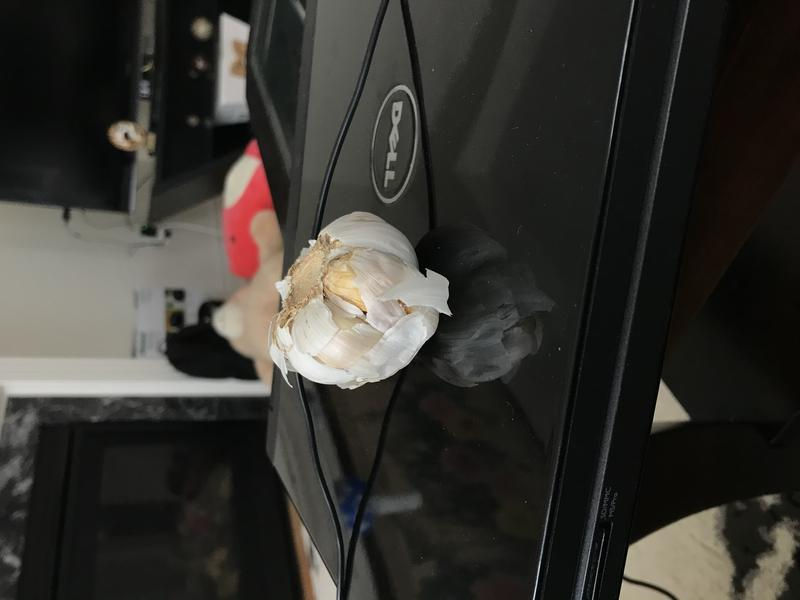garlic: (261, 203, 437, 394)
